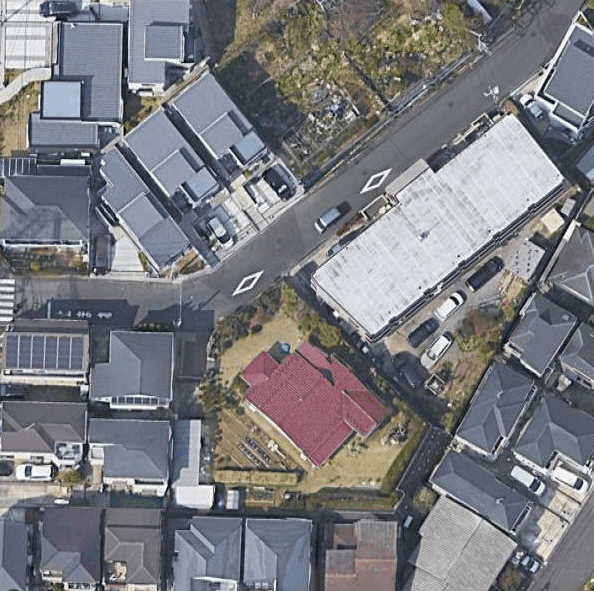flatroof: (299, 102, 571, 350)
solarpanel_flat: (1, 327, 90, 374)
